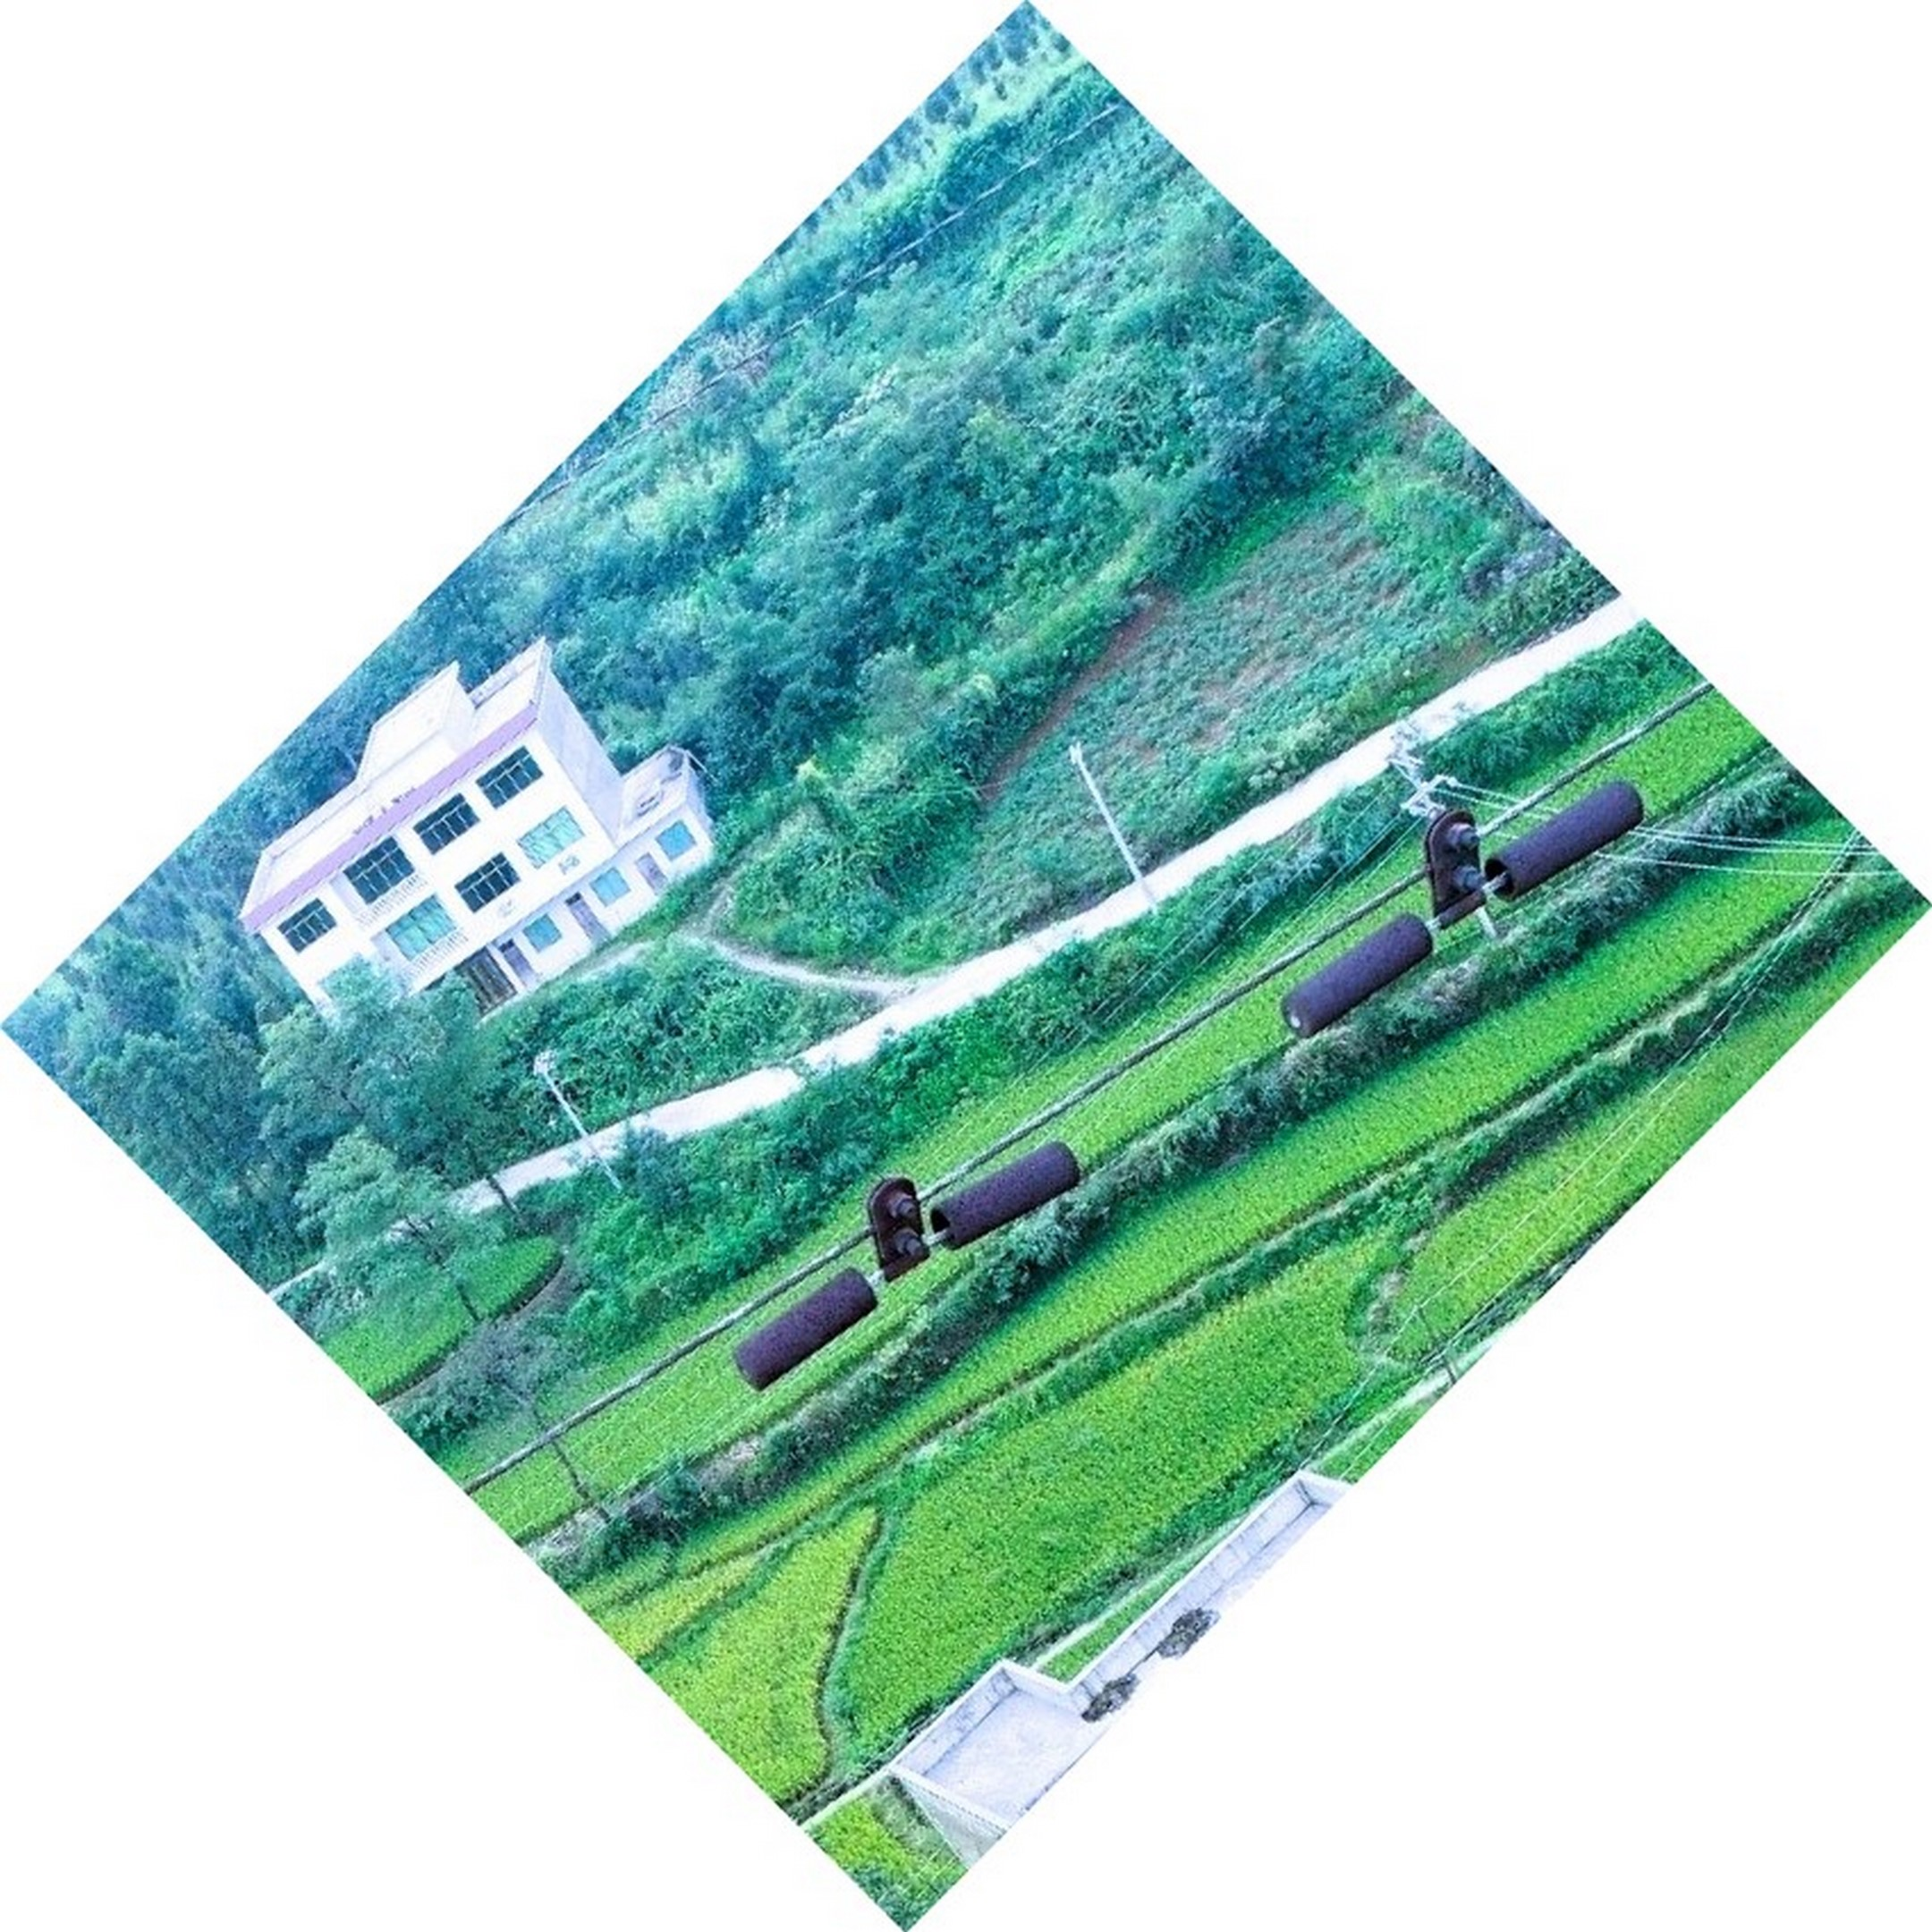Shockproof hammer: (1256, 752, 1670, 1039), (695, 1122, 1111, 1394)
